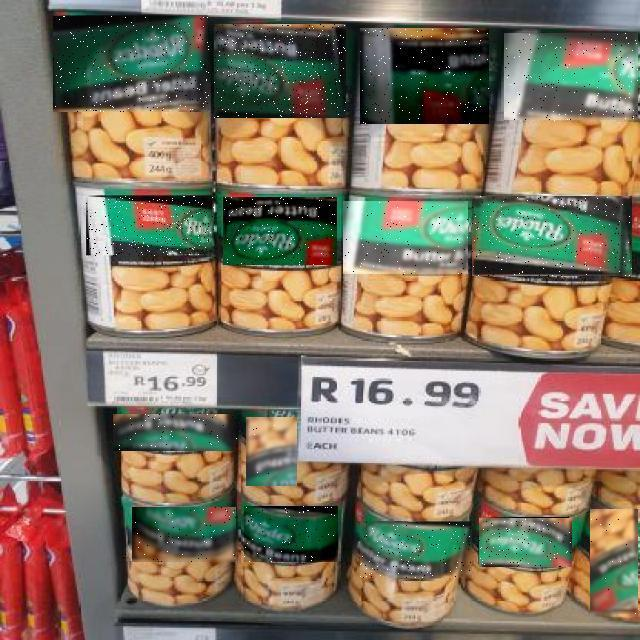Beans: (54, 16, 210, 112), (473, 196, 633, 276), (214, 24, 346, 118), (360, 28, 489, 124), (505, 34, 639, 122), (343, 202, 468, 276), (223, 197, 337, 265), (86, 196, 214, 256), (360, 522, 472, 578), (132, 508, 236, 564), (245, 506, 339, 562), (590, 510, 638, 616), (114, 414, 238, 451), (479, 518, 572, 567), (246, 417, 297, 486)
